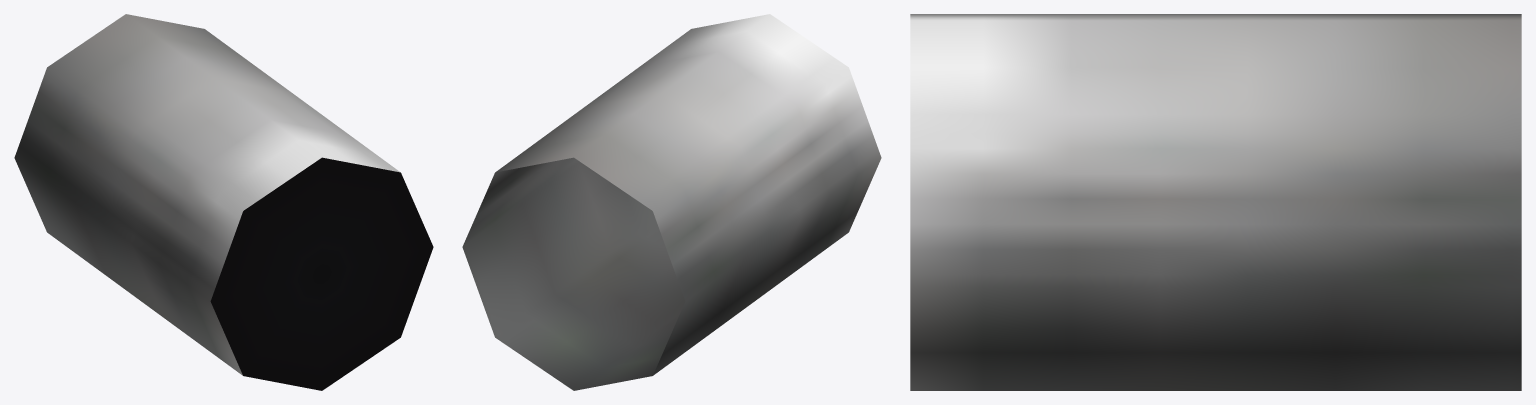
File: exh_b_l.glb
3 renders of one model, left to right at view 1: azimuth 30°, elevation 25°; view 2: azimuth 150°, elevation 25°; view 3: azimuth 270°, elevation 25°, orthographic. The views are drawn at different scales.
Visible parts, largest first — view 1: exh_b_l; view 2: exh_b_l; view 3: exh_b_l.
Boxes of the visible parts, left/top/right/bottom form: exh_b_l: left=14, top=14, right=433, bottom=390; exh_b_l: left=462, top=14, right=881, bottom=390; exh_b_l: left=910, top=14, right=1521, bottom=390.
Size of the model in its own units: 0.1364 by 0.1364 by 0.2079.
Materials: 2 (2 with a texture image).
